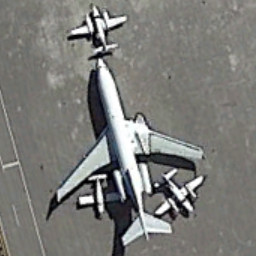Airplane: (32, 60, 237, 250), (55, 2, 130, 58), (151, 159, 214, 219), (69, 171, 121, 219)
